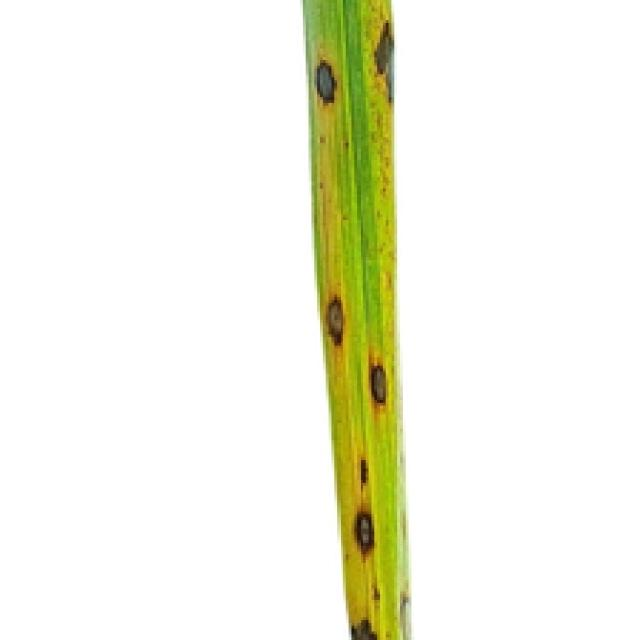Rice___Rice_Blast: (302, 0, 411, 637)
